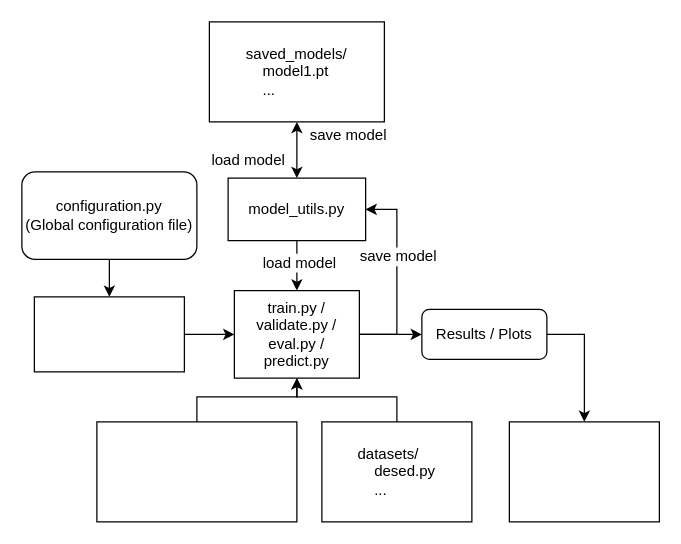
This 681x544 diagram has some shape labels left out. Each missing label, with the centre of its shape:
"logger.py" belongs at (583,471).
"models/ (netw. structure) baseline.py preprocess.py (melspec)" belongs at (196,471).
"run.py" belongs at (108,334).
